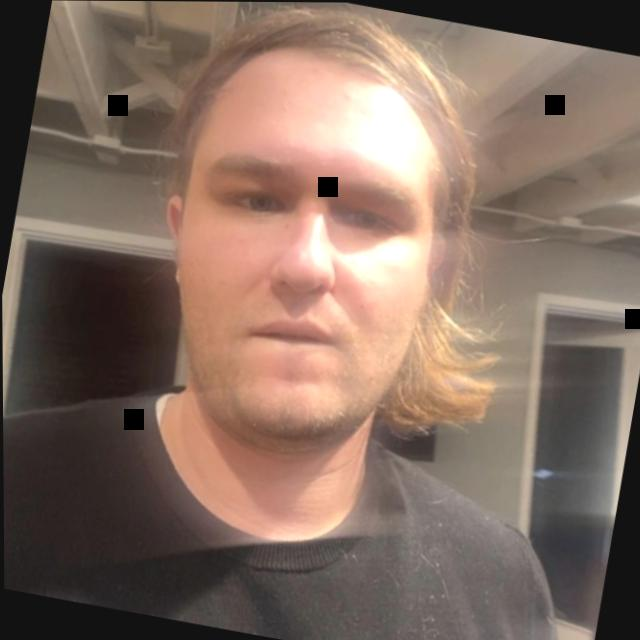NO-Mask: (79, 0, 540, 547)
